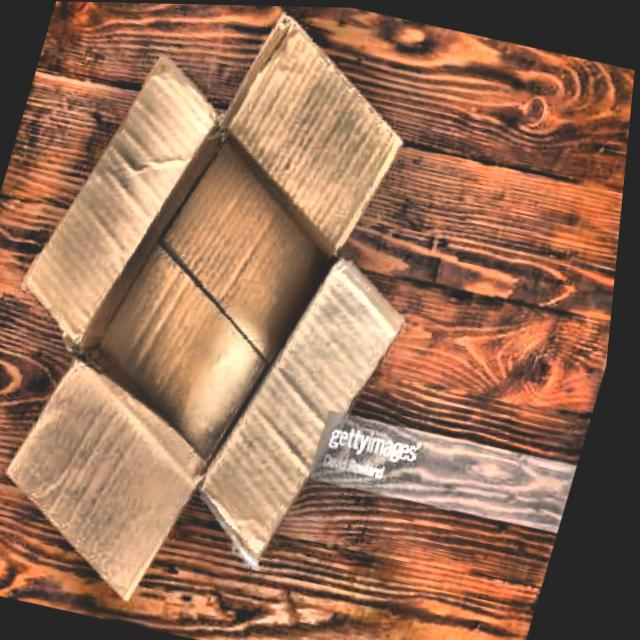Cardbox: (0, 0, 490, 639)
